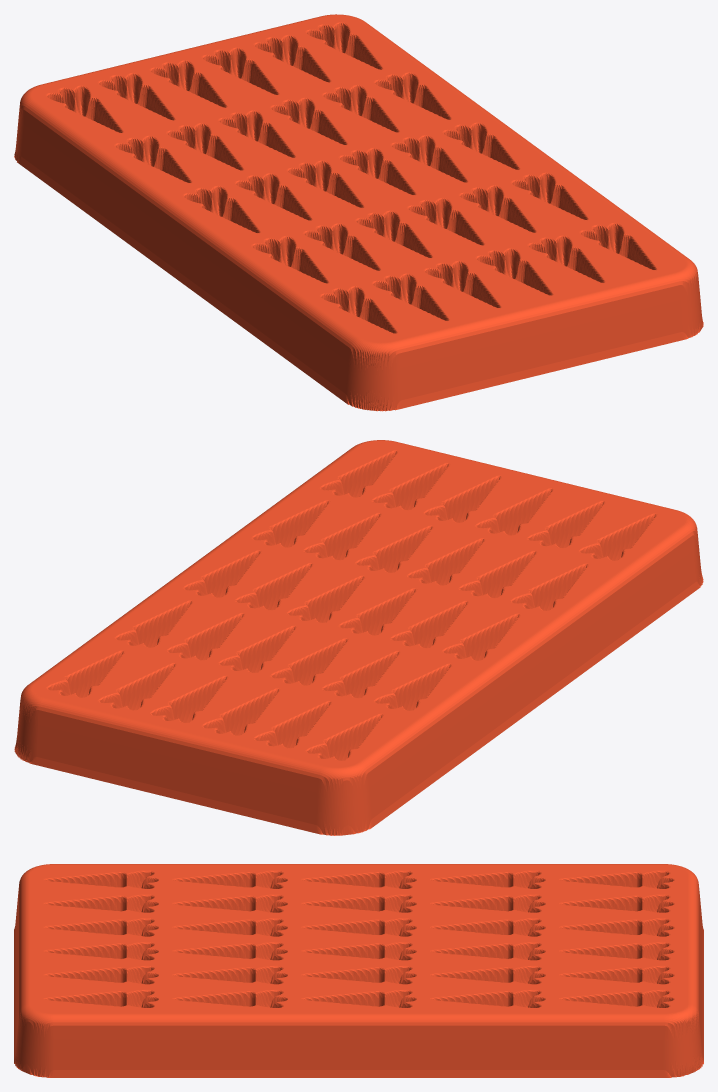
The model's file is mold.glb.
The picture shows the model from 3 angles, top to bottom: view 1: azimuth 30°, elevation 25°; view 2: azimuth 150°, elevation 25°; view 3: azimuth 270°, elevation 25°; orthographic projection. The views are drawn at different scales.
Visible parts, largest first — view 1: geometry_0; view 2: geometry_0; view 3: geometry_0.
Boxes of the visible parts, <box> form: geometry_0: <box>14,14,703,411</box>; geometry_0: <box>14,440,703,835</box>; geometry_0: <box>14,864,703,1077</box>.
Bounding box in the file's own units: 0.0878 × 0.0145 × 0.1578.
